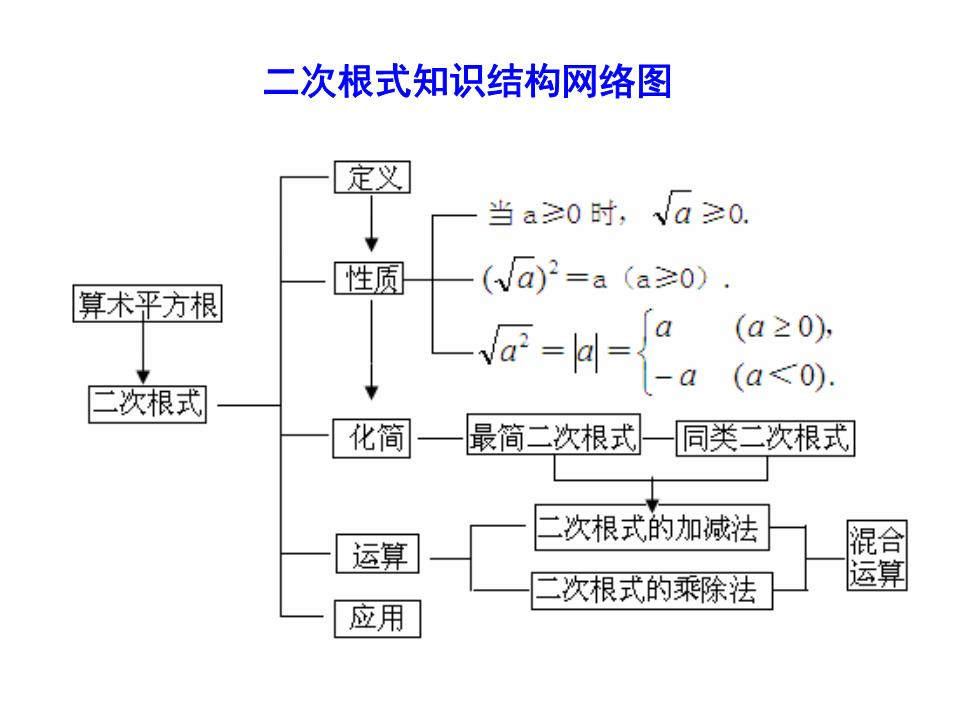sqrt: (494, 241, 551, 310), (482, 318, 534, 370), (650, 185, 699, 234)
square: (519, 329, 530, 350), (547, 257, 559, 276)
